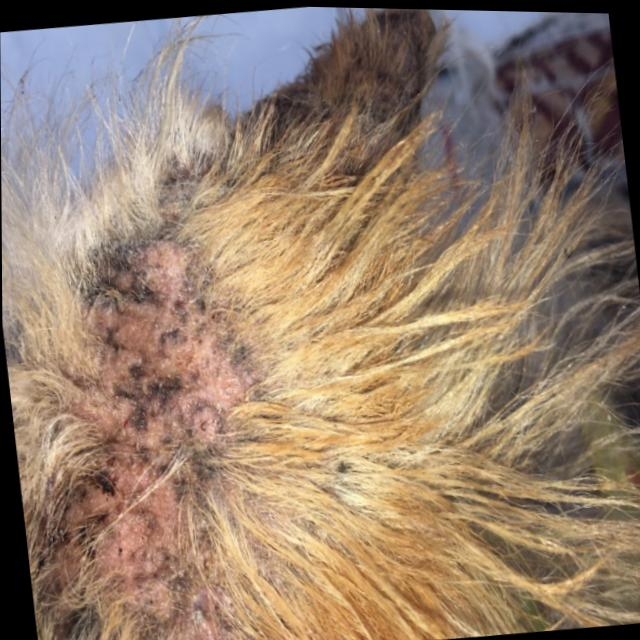demodicosis: (45, 251, 266, 599)
